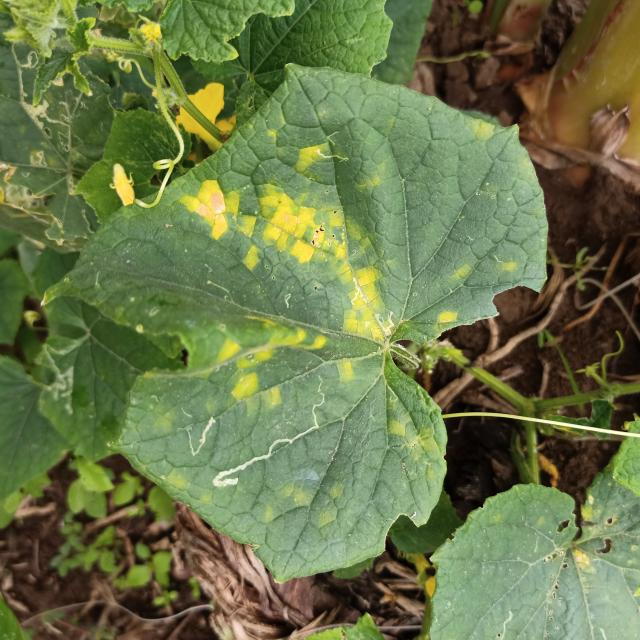disease_cucumber: (175, 139, 421, 343), (210, 324, 357, 414)
